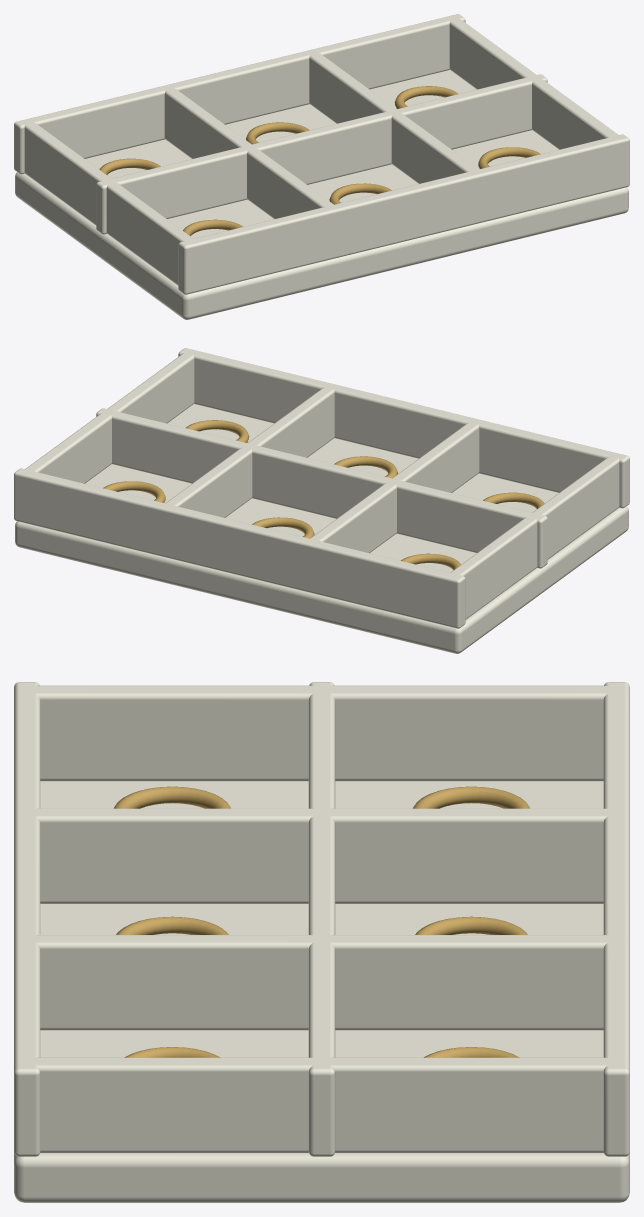
File: clockmaker-and-watch-repair-parts-sorting-tray-e0e887bc__30610.glb
3 views of the same model, one above another, from view 1: azimuth 30°, elevation 25°; view 2: azimuth 150°, elevation 25°; view 3: azimuth 270°, elevation 25° (orthographic). The views are drawn at different scales.
Parts seen in each view (by area): view 1: parts-sorting-tray; view 2: parts-sorting-tray; view 3: parts-sorting-tray.
Part boxes in pixels (<box>): parts-sorting-tray: <box>14,14,629,319</box>; parts-sorting-tray: <box>14,348,629,653</box>; parts-sorting-tray: <box>14,682,629,1202</box>.
Bounding box in the file's own units: 0.21 × 0.034 × 0.14.
